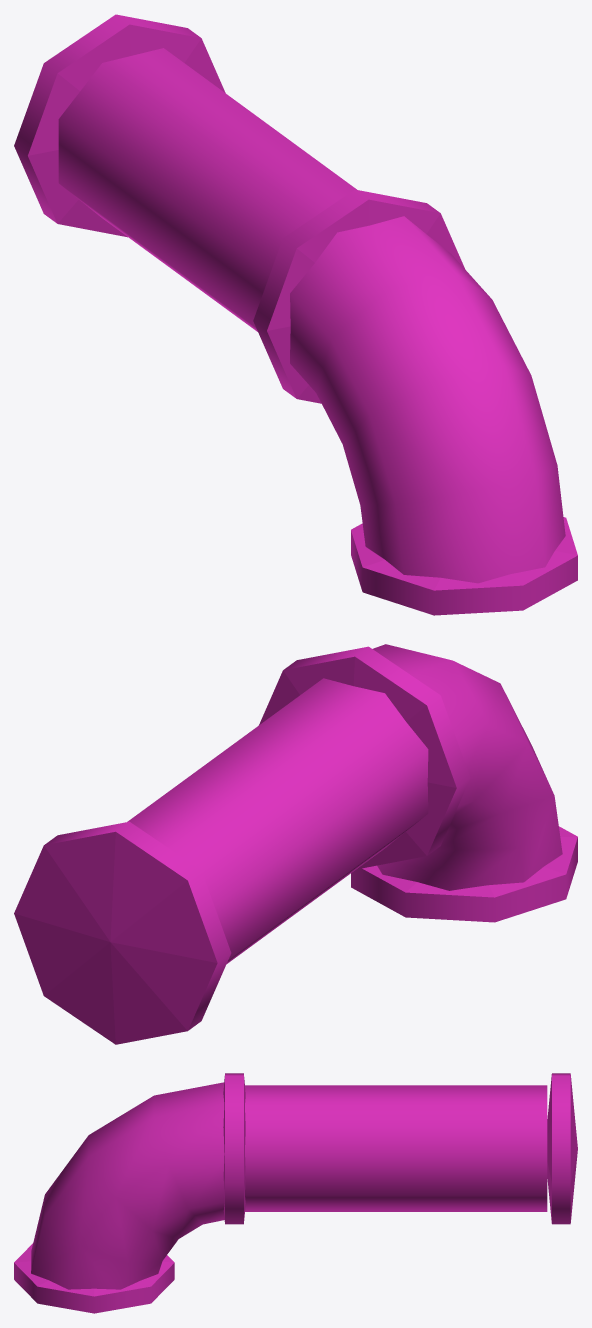
File: Pipe_03_Lod1.fbx
The picture shows the model from 3 angles, top to bottom: view 1: azimuth 30°, elevation 25°; view 2: azimuth 150°, elevation 25°; view 3: azimuth 270°, elevation 25°; orthographic projection. The views are drawn at different scales.
Visible parts, largest first — view 1: Pipe_03_Lod1; view 2: Pipe_03_Lod1; view 3: Pipe_03_Lod1.
Part boxes in pixels (left/top/right/bottom): Pipe_03_Lod1: left=14, top=14, right=577, bottom=615; Pipe_03_Lod1: left=14, top=644, right=577, bottom=1044; Pipe_03_Lod1: left=14, top=1073, right=577, bottom=1313.
Bounding box in the file's own units: 313 × 452 × 1099.
